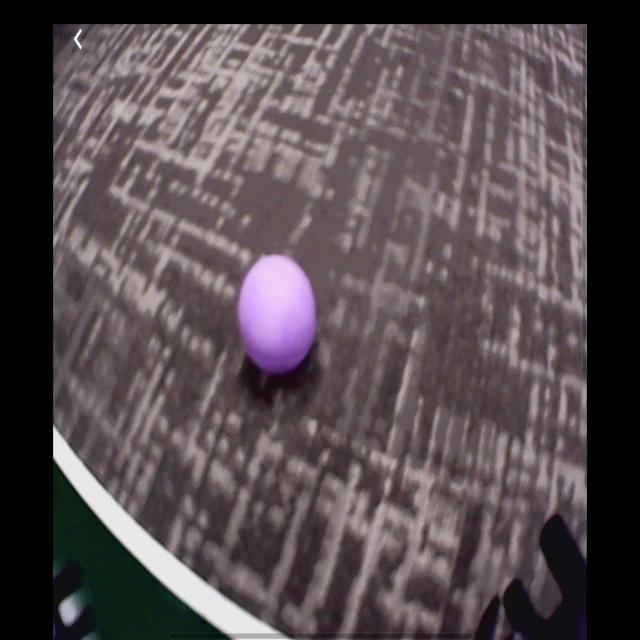ball: (238, 258, 318, 371)
